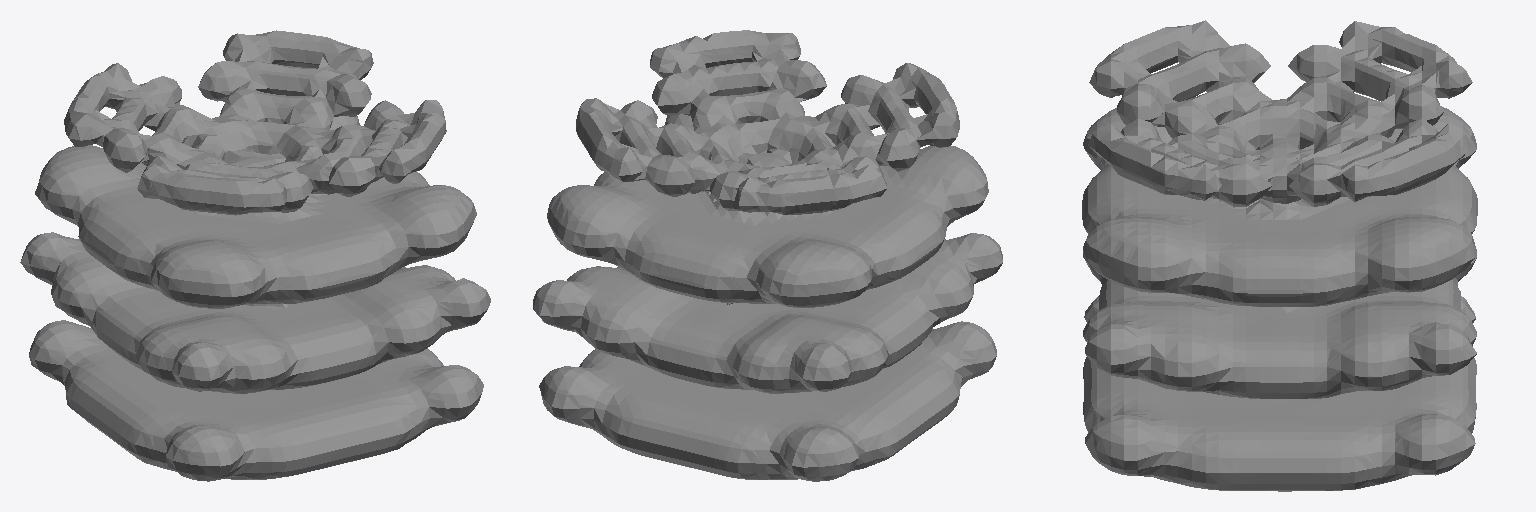
The robot description file, URDF, robot "cube.urdf":
<?xml version="0.0" ?> 
<robot name="cube.urdf"> 
<link name="legobrick"> 
<contact> 
<lateral_friction value="5.0"/> 
<rolling_friction value="0.0"/> 
<contact_cfm value="0.0"/> 
<contact_erp value="1.0"/> 
</contact> 
<inertial> 
<origin rpy="0 0 0" xyz="0.0 0.0 0.0"/> 
<mass value=".01"/> 
<inertia ixx="1" ixy="0" ixz="0" iyy="1" iyz="0" izz="1"/> 
</inertial> 
<visual> 
<origin rpy="1.570796 0 0" xyz="-0.02647810682836762 0.0264058576626693 -0.027312865124469673"/> 
<geometry> 
<mesh filename="L21_2.obj" scale="0.0006998506125126929 0.0006998506125126929 0.0006998506125126929"/> 
</geometry> 
<material name="yellow"> 
<color rgba="0.6 0.6 0.6 1"/> 
</material> 
</visual> 
<collision> 
<origin rpy="1.570796 0 0" xyz="-0.02647810682836762 0.0264058576626693 -0.027312865124469673"/> 
<geometry> 
<mesh filename="L21_2.obj" scale="0.0006998506125126929 0.0006998506125126929 0.0006998506125126929"/> 
</geometry> 
</collision> 
</link> 
</robot>

--- Render facts (derived) ---
3 views of the same robot in one strip: view 1: azimuth 30°, elevation 25°; view 2: azimuth 150°, elevation 25°; view 3: azimuth 270°, elevation 25° (orthographic).
Model cube.urdf with 1 links and 0 joints (none), rooted at legobrick, posed every joint at zero.
Visible links, largest first — view 1: legobrick; view 2: legobrick; view 3: legobrick.
Boxes of the visible links, box(x1,y1,x2,y2) form: legobrick: box(20, 30, 490, 481); legobrick: box(533, 30, 1002, 481); legobrick: box(1082, 20, 1477, 491).
Size in the robot's own frame: 0.056 by 0.056 by 0.056 metres.
Meshes: 1 distinct files referenced, 1 mesh visuals loaded (1 OBJ).
